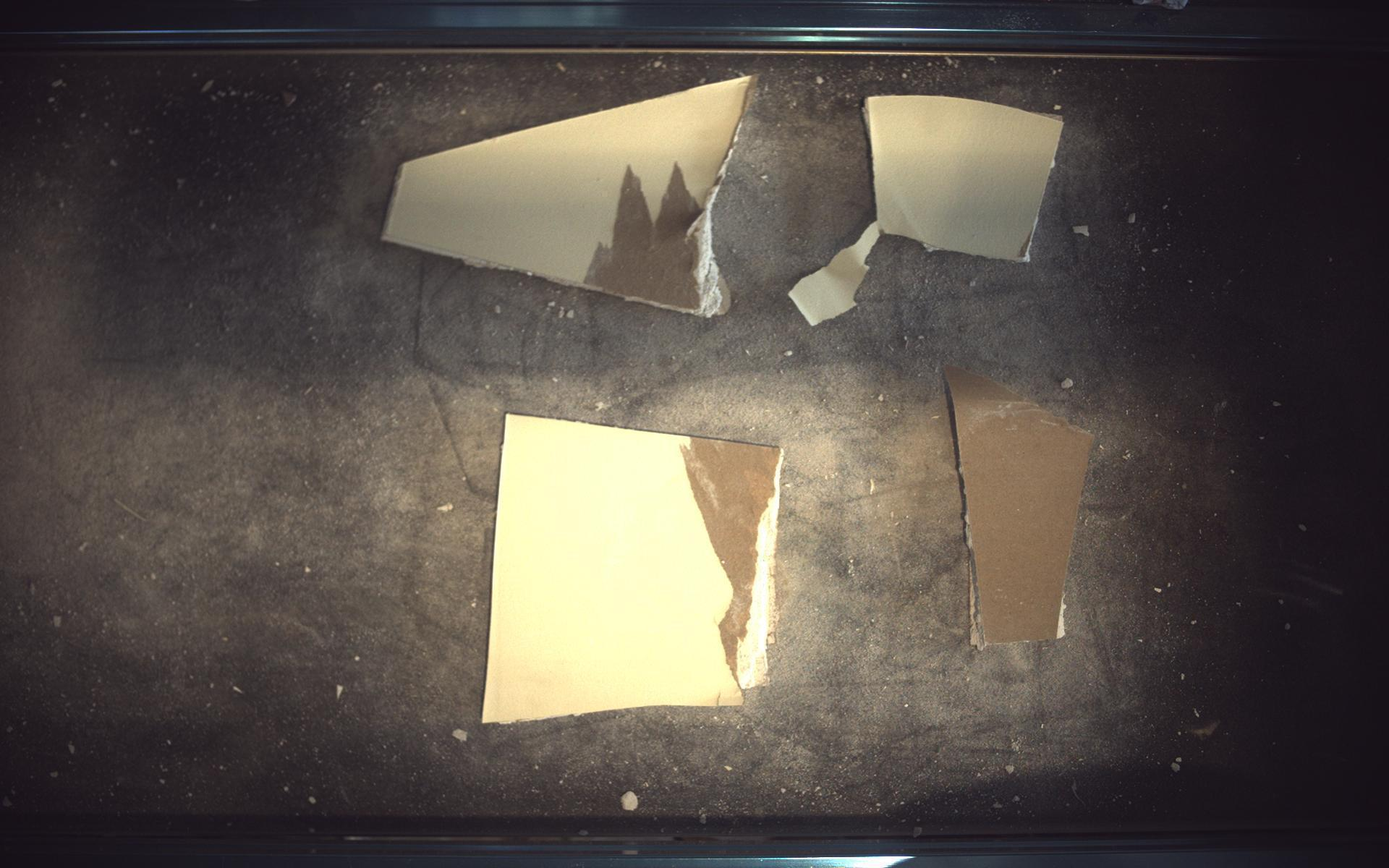gypsum_board: (483, 414, 784, 724), (382, 75, 757, 316), (791, 94, 1065, 324), (946, 365, 1095, 650)
